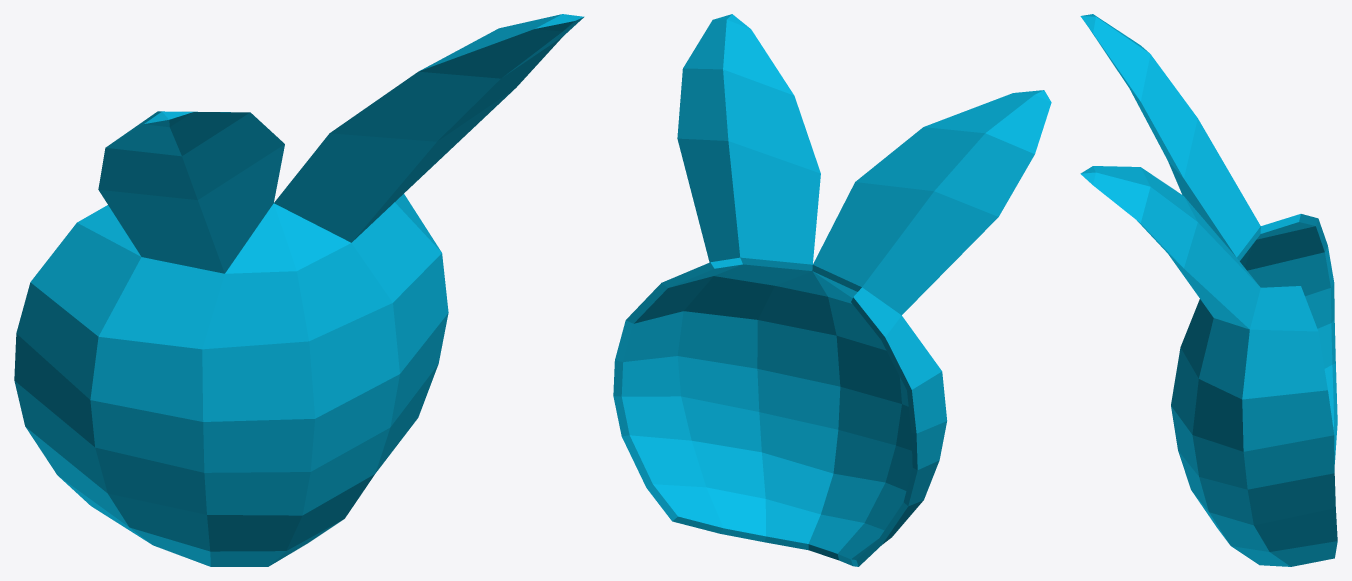
File: Mask_Child_Bunny.fbx
3 views of the same model, side by side, from view 1: azimuth 30°, elevation 25°; view 2: azimuth 150°, elevation 25°; view 3: azimuth 270°, elevation 25° (orthographic). The views are drawn at different scales.
Parts seen in each view (by area): view 1: SpiritGirl_Mask_Bunny; view 2: SpiritGirl_Mask_Bunny; view 3: SpiritGirl_Mask_Bunny.
Part boxes in pixels (bbox=[...]): SpiritGirl_Mask_Bunny: bbox=[14, 14, 584, 566]; SpiritGirl_Mask_Bunny: bbox=[613, 14, 1051, 566]; SpiritGirl_Mask_Bunny: bbox=[1080, 14, 1337, 566].
Bounding box in the file's own units: 7.93 × 9.47 × 4.85.
